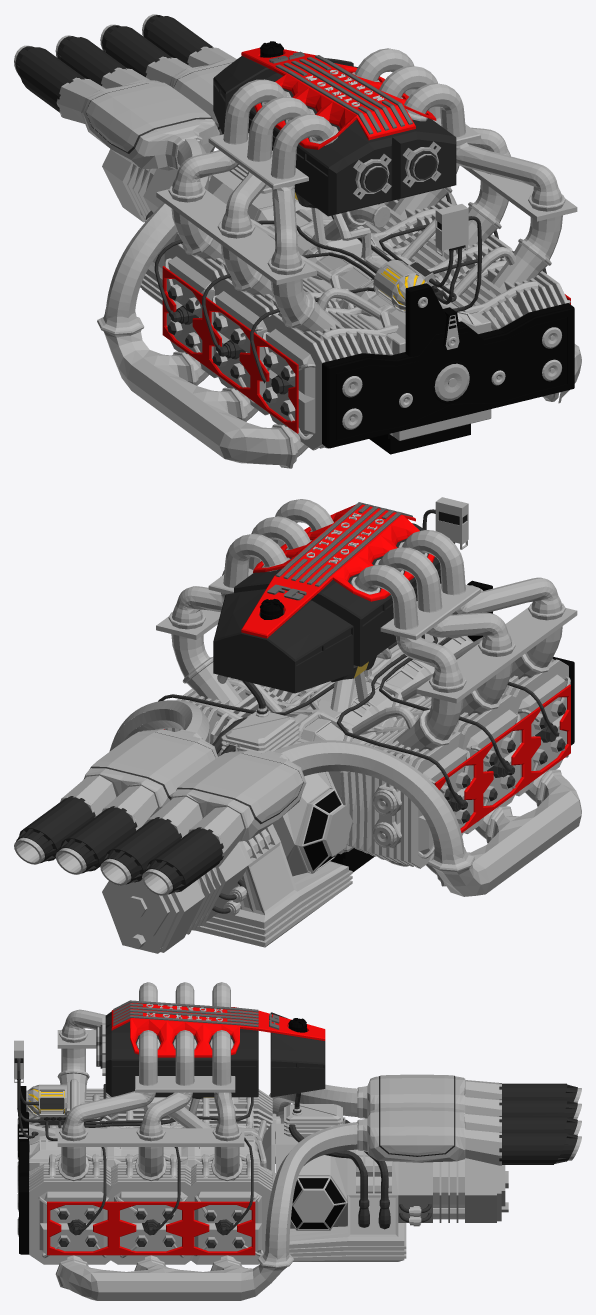
Rendered from segmented_mesh_20260228_071513_mesh.glb.
The picture shows the model from 3 angles, top to bottom: view 1: azimuth 30°, elevation 25°; view 2: azimuth 150°, elevation 25°; view 3: azimuth 270°, elevation 25°; orthographic projection. The views are drawn at different scales.
Parts seen in each view (by area): view 1: world; view 2: world; view 3: world.
Part boxes in pixels (x1=…): world: x1=14, y1=14, x2=581, y2=468; world: x1=14, y1=497, x2=581, y2=953; world: x1=14, y1=982, x2=581, y2=1300.
Size of the model in its own units: 0.5824 by 0.46 by 1.
1 material, 1 textured.
